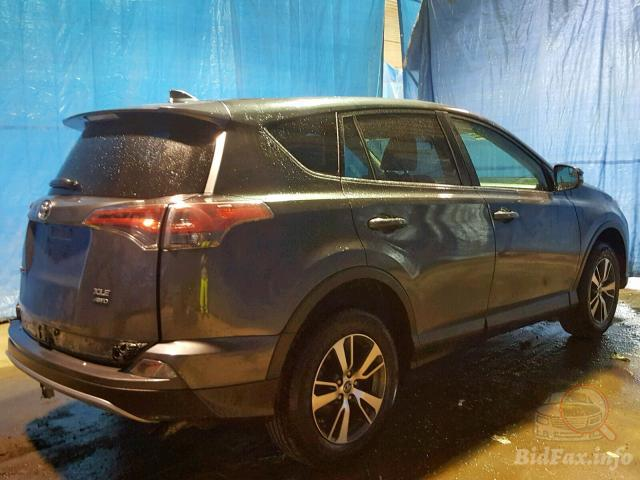Toyota RAV-4: (6, 87, 629, 472)
